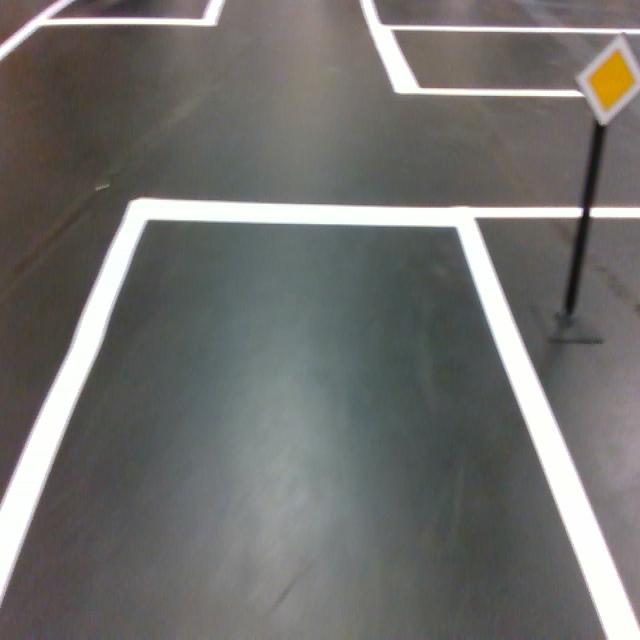priority-sign: (573, 32, 640, 128)
